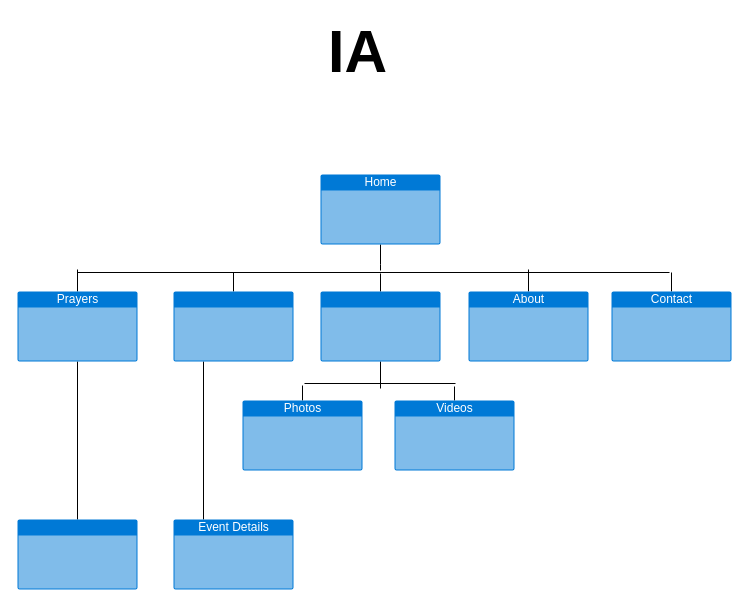
The diagram is 748 pixels wide and 607 high, and some of its shapes have lost their labels. The centre of each missing label's shape, as x and y in pixels:
"Events" belongs at pixel 233 326.
"Media" belongs at pixel 380 326.
"Prayer Details" belongs at pixel 77 554.
